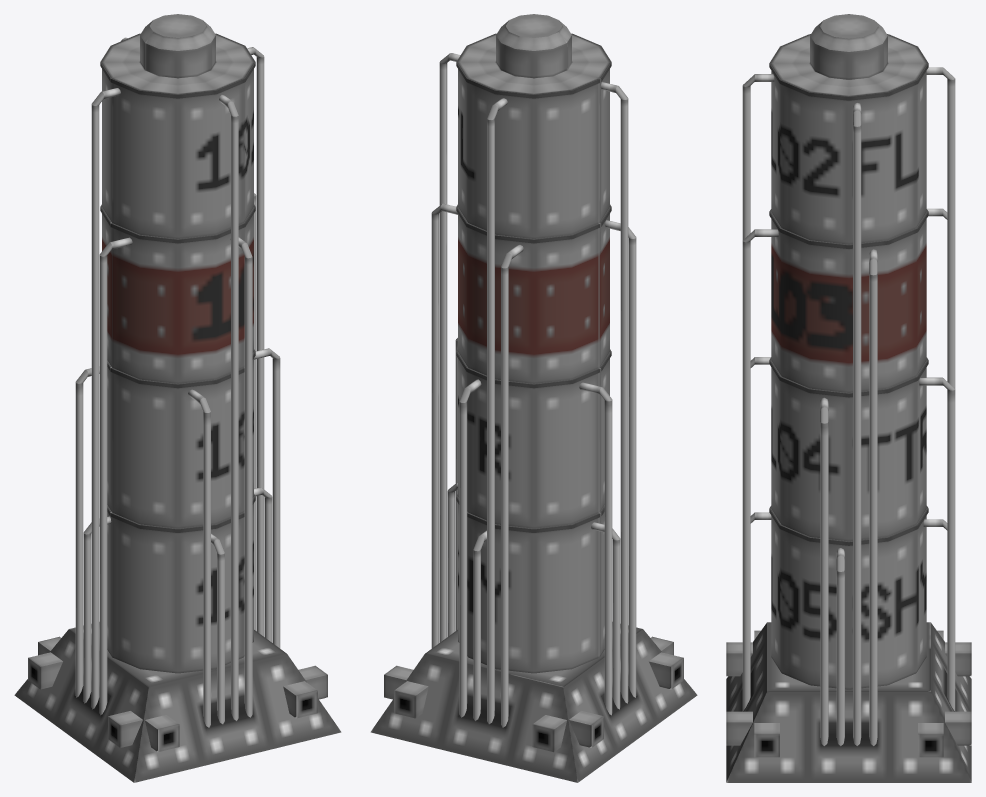
The model's file is refinery.obj.
3 views of the same model, side by side, from view 1: azimuth 30°, elevation 25°; view 2: azimuth 150°, elevation 25°; view 3: azimuth 270°, elevation 25° (orthographic). The views are drawn at different scales.
Parts seen in each view (by area): view 1: Plane; view 2: Plane; view 3: Plane.
Boxes of the visible parts, <box> form: Plane: <box>14,14,341,782</box>; Plane: <box>370,14,697,782</box>; Plane: <box>726,14,971,782</box>.
Bounding box in the file's own units: 3 × 9.5 × 3.
